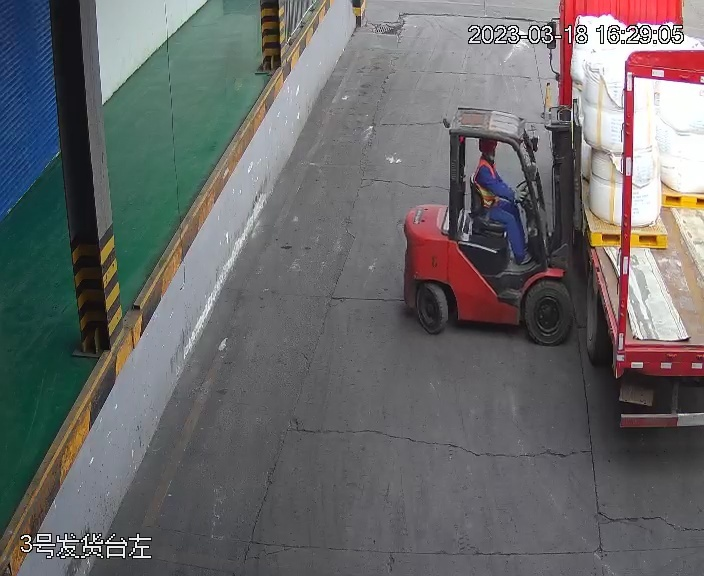head: (474, 138, 505, 181)
helmet: (478, 138, 500, 152)
people: (472, 136, 532, 265)
truck: (563, 7, 703, 430)
